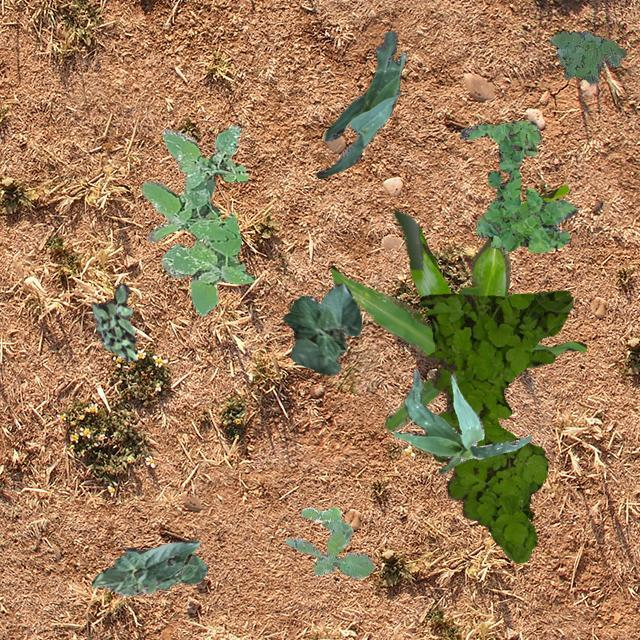crop: (330, 183, 586, 430), (392, 368, 530, 472), (316, 30, 406, 176), (282, 282, 361, 373), (90, 538, 198, 594), (154, 554, 207, 588)
weed: (418, 290, 572, 562), (140, 123, 252, 314), (459, 120, 576, 252), (284, 506, 374, 578), (548, 29, 626, 82), (90, 282, 136, 361)
